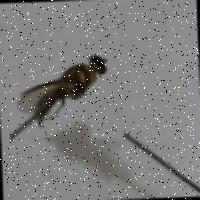Oriental-fruit-fly: (8, 51, 125, 141)
